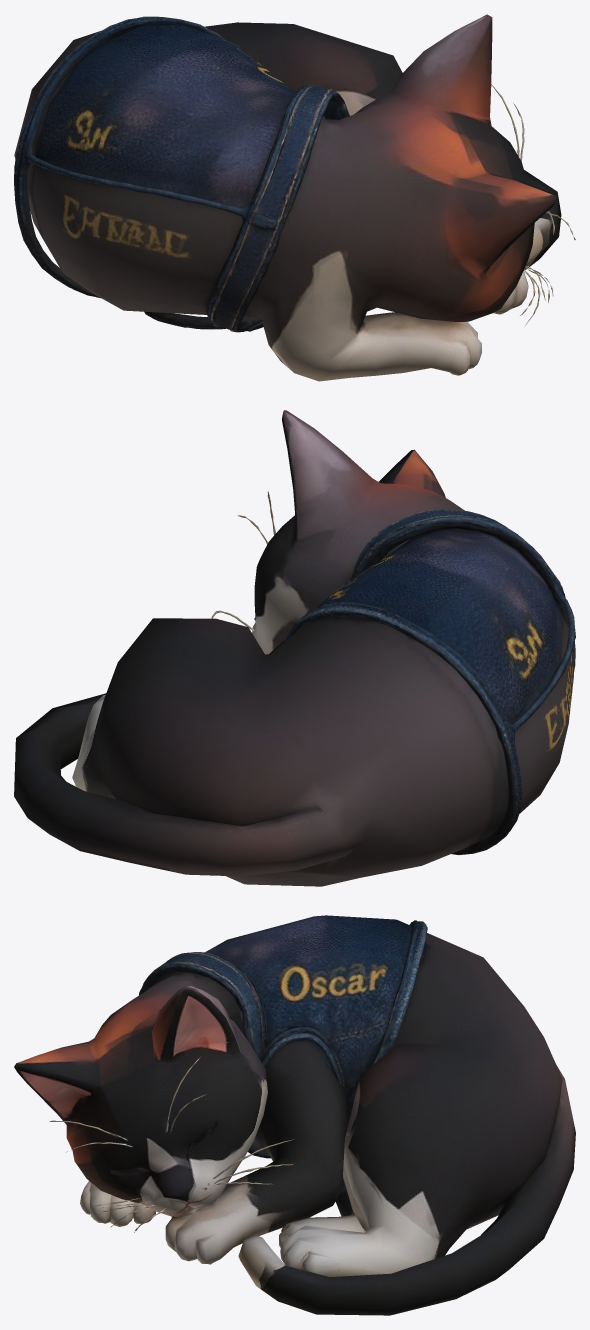
File: cat-oscar-sleep.glb
The picture shows the model from 3 angles, top to bottom: view 1: azimuth 30°, elevation 25°; view 2: azimuth 150°, elevation 25°; view 3: azimuth 270°, elevation 25°; orthographic projection. The views are drawn at different scales.
Parts seen in each view (by area): view 1: tripo_node_b4fa8264-35dd-4ac9-8441-99d3396e8486; view 2: tripo_node_b4fa8264-35dd-4ac9-8441-99d3396e8486; view 3: tripo_node_b4fa8264-35dd-4ac9-8441-99d3396e8486.
Part boxes in pixels (x1,y1,x2,y2): tripo_node_b4fa8264-35dd-4ac9-8441-99d3396e8486: [14, 14, 575, 381]; tripo_node_b4fa8264-35dd-4ac9-8441-99d3396e8486: [14, 410, 575, 886]; tripo_node_b4fa8264-35dd-4ac9-8441-99d3396e8486: [14, 915, 575, 1315].
Bounding box in the file's own units: 0.9043 × 0.5527 × 0.998.
1 material, 1 textured.
